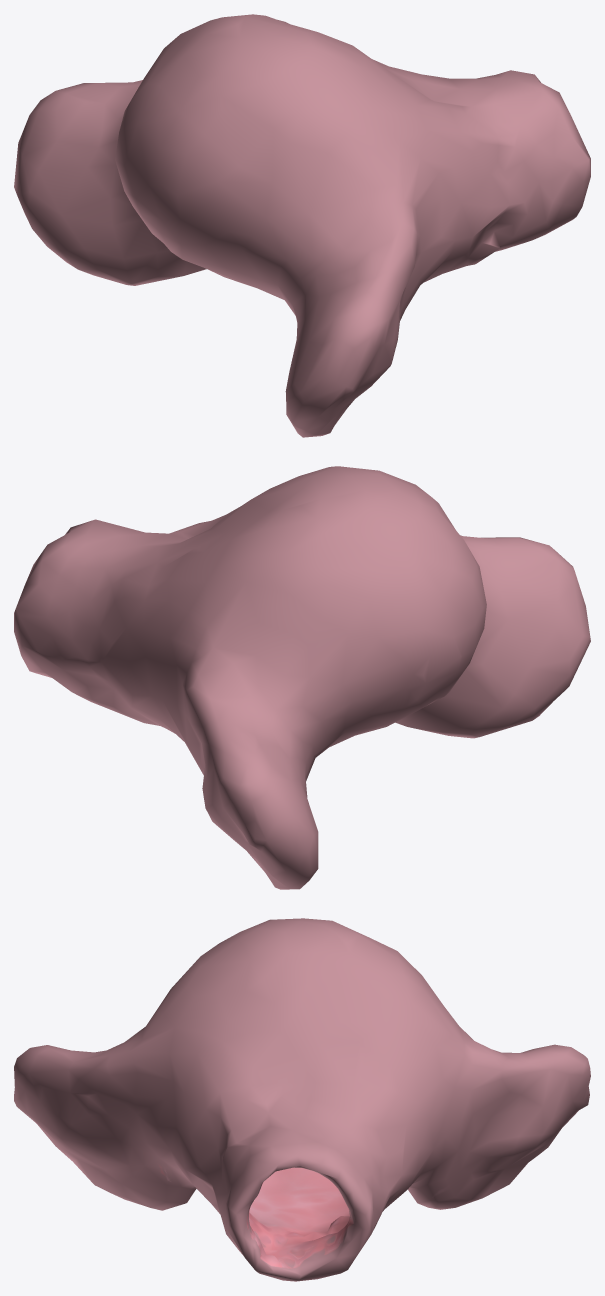
The model's file is Utero 2.fbx.
3 renders of one model, top to bottom at view 1: azimuth 30°, elevation 25°; view 2: azimuth 150°, elevation 25°; view 3: azimuth 270°, elevation 25°, orthographic. The views are drawn at different scales.
Parts seen in each view (by area): view 1: hp.normal; view 2: hp.normal; view 3: hp.normal.
Boxes of the visible parts, bbox=[...] form: hp.normal: bbox=[14, 14, 590, 437]; hp.normal: bbox=[14, 466, 590, 889]; hp.normal: bbox=[14, 918, 590, 1281].
Size of the model in its own units: 7343 by 5312 by 9798.
